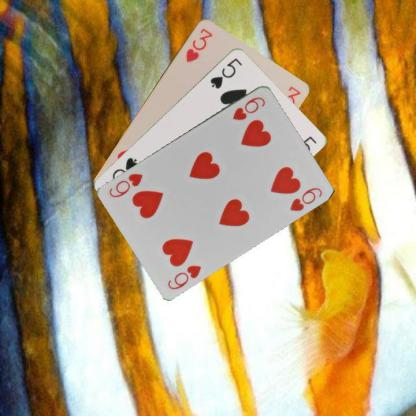3h: (183, 26, 214, 63)
5s: (208, 55, 244, 90)
6h: (164, 262, 202, 291), (230, 94, 267, 121)
